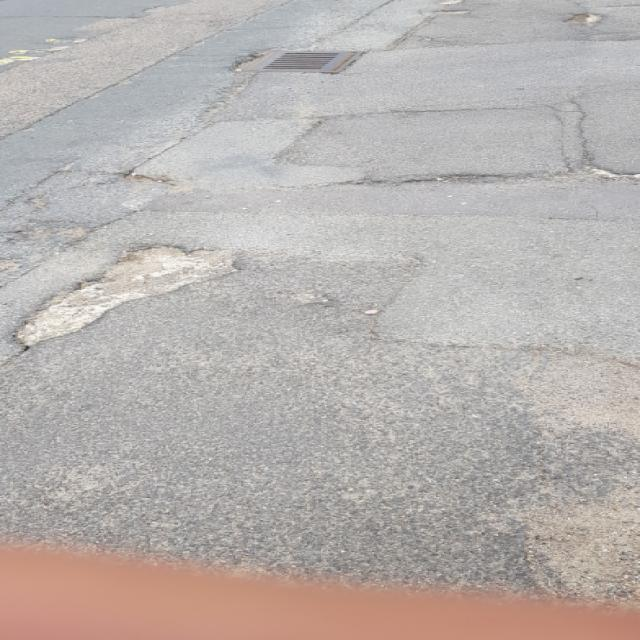pothole: (0, 239, 251, 355)
